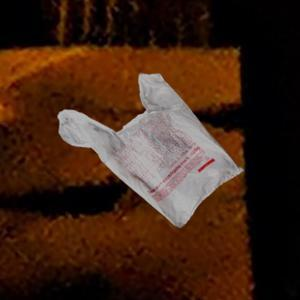plastic_bag: (52, 70, 245, 232)
